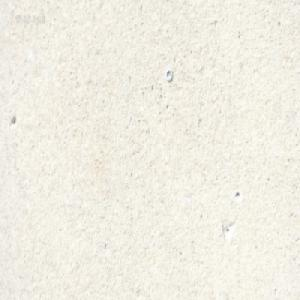Washer: (164, 67, 172, 81)
